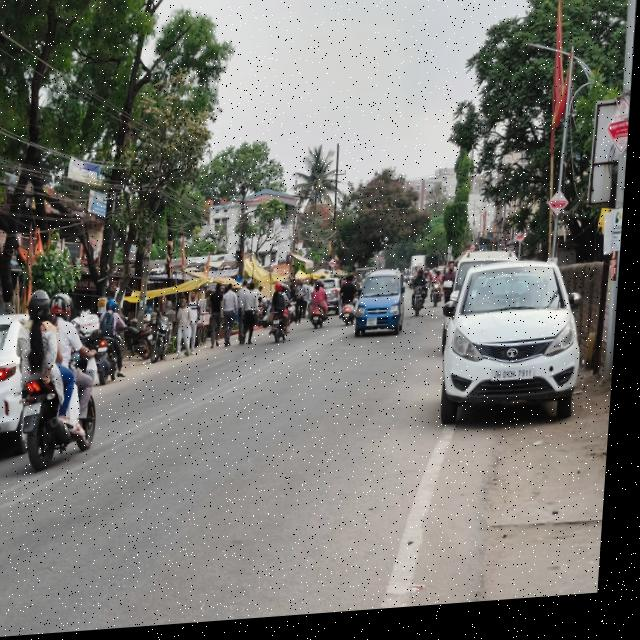bike: (18, 340, 118, 480), (100, 332, 130, 387), (153, 315, 178, 368), (272, 313, 289, 350), (416, 290, 431, 325)
car: (444, 263, 594, 444), (358, 269, 411, 350)
